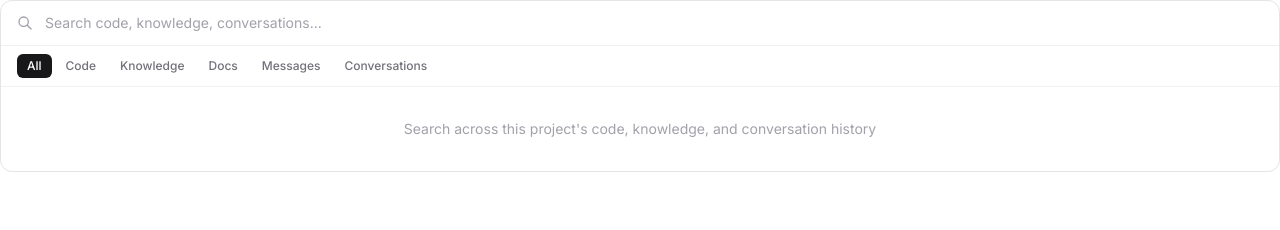
it: SearchPanel › displays code results with file path
Step 1. Type "auth" into the field with placeholder "Search code, knowledge, conversations..." → {"x": 654, "y": 23}, box [45,13,1263,33]
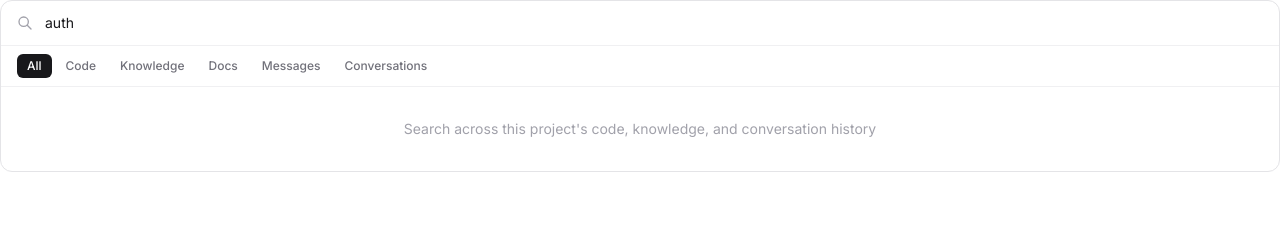
Step 2. Press Enter in the field with placeholder "Search code, knowledge, conversations...", box [45,13,1263,33]
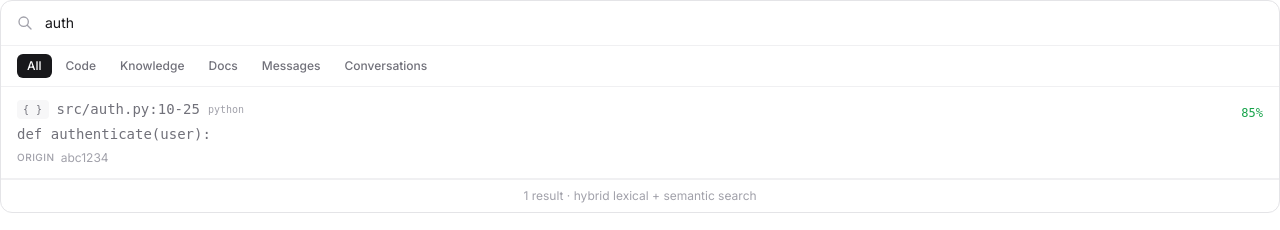
Expected: the text "src/auth.py:10-25" is shown, [57,99,200,119]
Expected: the text "85%" is shown, [1241,106,1263,120]
Expected: the text "python" is shown, [208,102,244,116]
